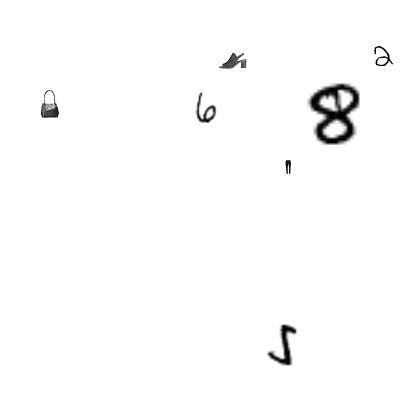2: (368, 42, 396, 70)
5: (256, 317, 312, 373)
6: (184, 91, 226, 133)
8: (290, 69, 374, 153)
Bag: (36, 90, 64, 118)
Sandal: (219, 46, 247, 74)
Trouser: (281, 160, 295, 174)
